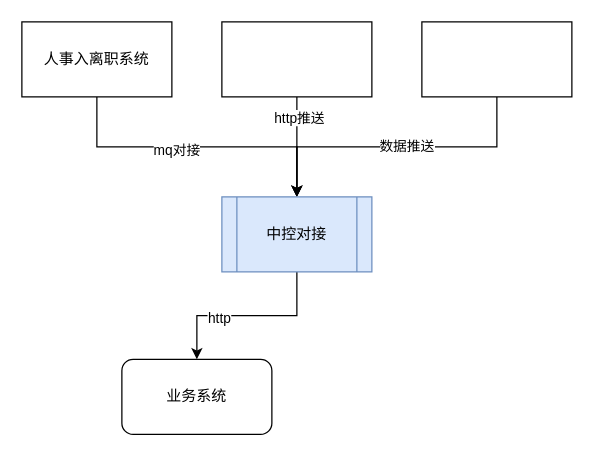
This 594x456 diagram has some shape labels left out. Here are the shapes that lost their labels. From the top down, the centre of each, then its label:
At pixel 296 59: "运营权限系统".
At pixel 496 59: "其它...".
